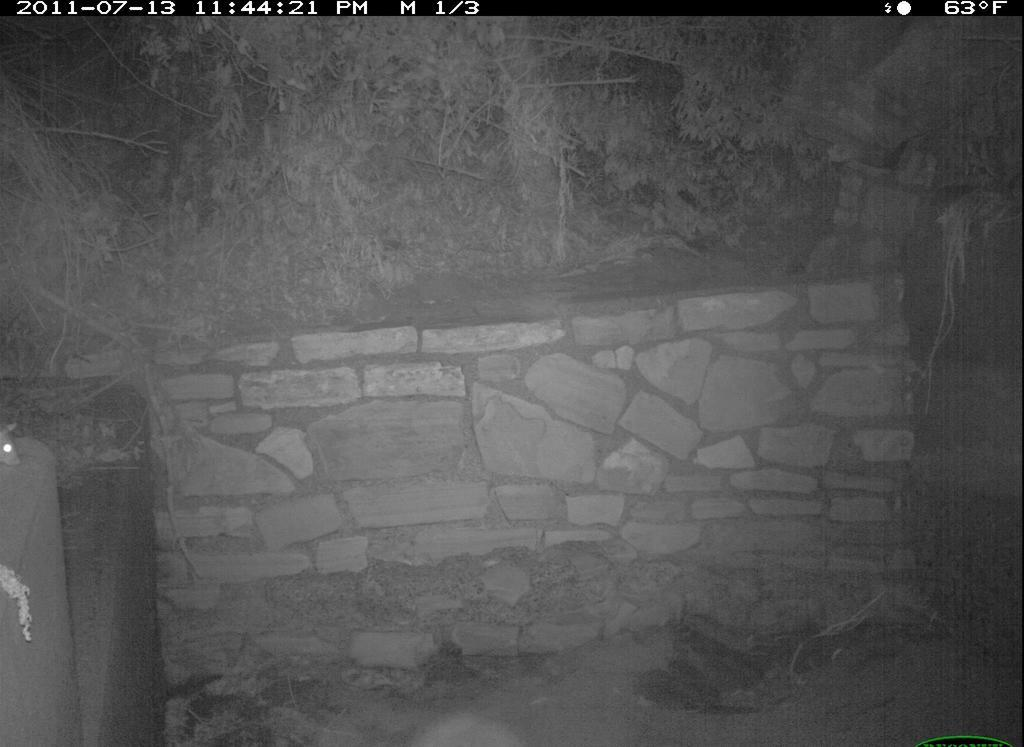rodent: (1, 415, 33, 487)
